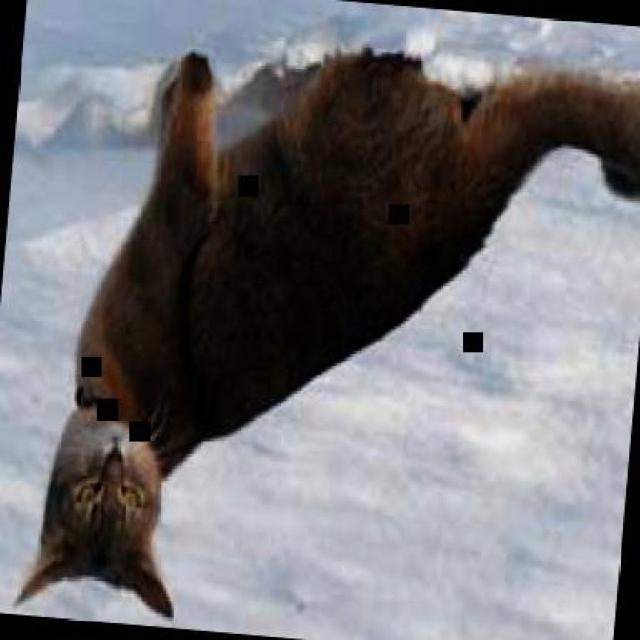cat: (12, 14, 638, 638)
